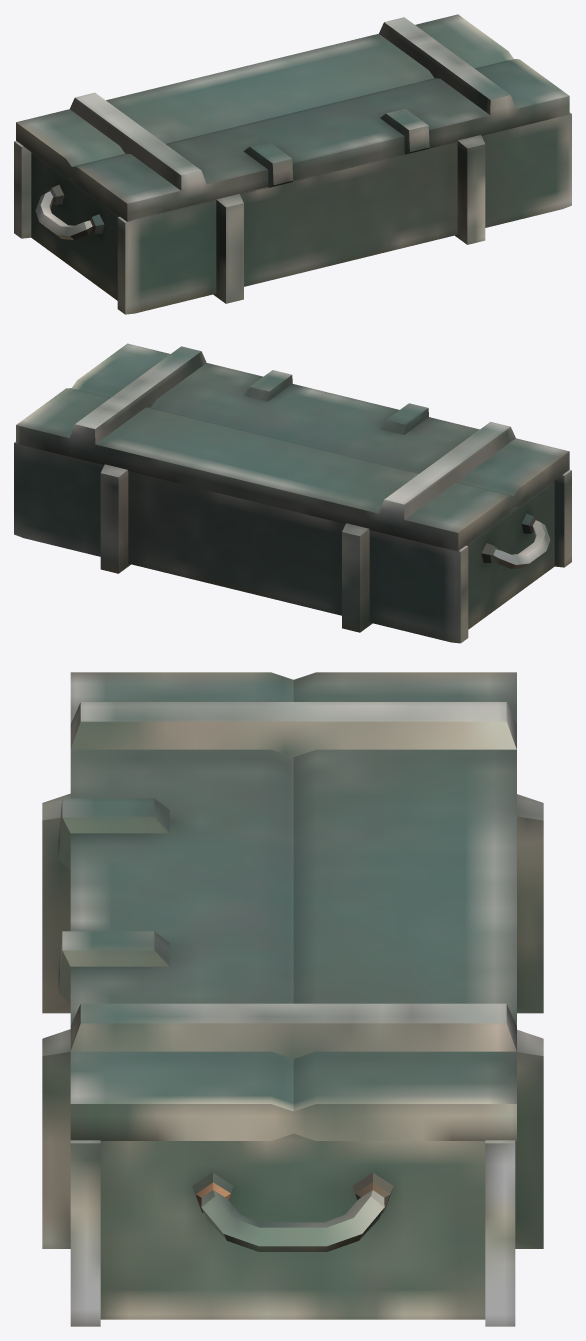
Rendered from BoxMini.fbx.
3 renders of one model, top to bottom at view 1: azimuth 30°, elevation 25°; view 2: azimuth 150°, elevation 25°; view 3: azimuth 270°, elevation 25°, orthographic. The views are drawn at different scales.
Visible parts, largest first — view 1: BoxMiniTop, BoxMini; view 2: BoxMiniTop, BoxMini; view 3: BoxMiniTop, BoxMini.
Boxes of the visible parts, x1=… form: BoxMiniTop: x1=16, y1=14, x2=569, y2=221; BoxMini: x1=14, y1=112, x2=571, y2=314; BoxMiniTop: x1=16, y1=343, x2=569, y2=551; BoxMini: x1=14, y1=441, x2=571, y2=643; BoxMiniTop: x1=58, y1=672, x2=516, y2=1140; BoxMini: x1=42, y1=793, x2=543, y2=1326.
Bounding box in the file's own units: 51.64 × 13.08 × 22.88.
